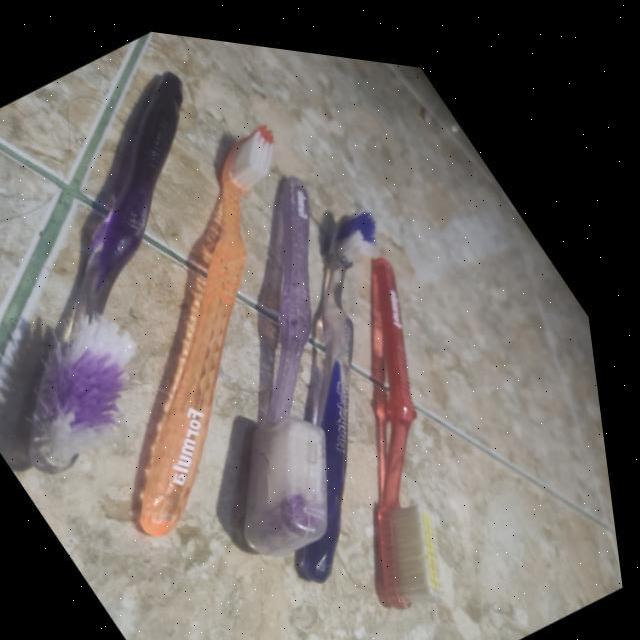toothbrush: (16, 61, 216, 486), (126, 106, 298, 536), (226, 140, 342, 560), (286, 182, 397, 586), (368, 226, 462, 614)
